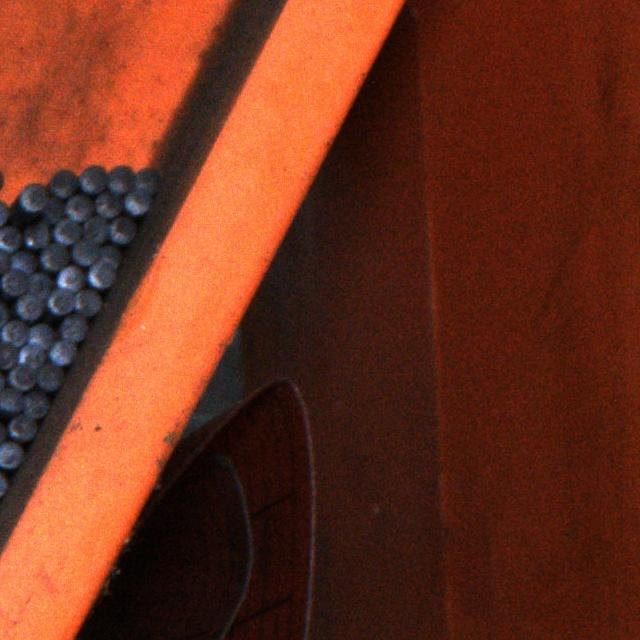tool: (56, 265, 86, 292), (79, 164, 107, 192), (40, 242, 69, 269), (88, 259, 115, 288), (50, 168, 77, 196), (107, 164, 134, 192), (65, 194, 93, 221), (59, 314, 87, 341), (35, 363, 63, 390), (28, 323, 56, 350), (21, 390, 48, 418), (82, 216, 109, 243), (1, 268, 28, 295), (24, 220, 50, 248), (73, 288, 101, 314), (48, 339, 76, 365), (20, 183, 47, 209), (46, 288, 73, 314), (16, 293, 43, 319), (1, 320, 28, 346), (54, 218, 82, 243), (70, 240, 98, 265), (8, 415, 36, 440), (134, 166, 160, 192), (8, 364, 35, 389), (94, 192, 122, 216), (18, 344, 46, 368), (110, 216, 134, 243), (124, 189, 149, 214), (10, 251, 37, 274), (28, 272, 52, 297), (41, 198, 64, 223), (0, 441, 22, 467), (0, 225, 21, 252), (0, 388, 23, 412), (0, 340, 18, 370), (98, 245, 122, 267), (0, 248, 10, 274)
